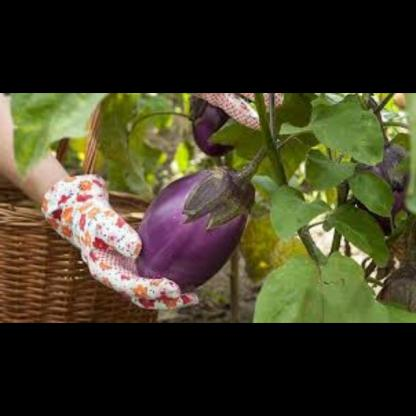eggplant: (119, 154, 274, 284)
